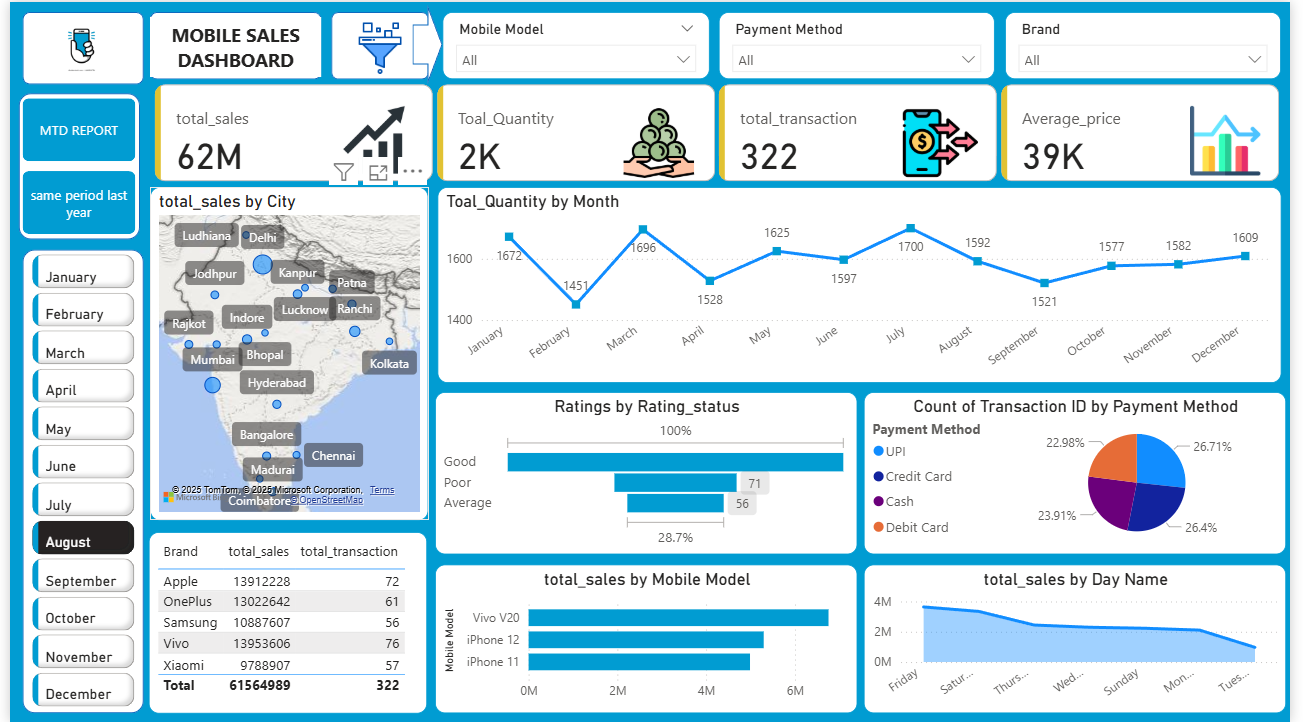

The page's visual inventory and layout, read from the dashboard file:
{"tool":"powerbi","page":{"name":"Dashboard","canvas":[1280,720],"ordinal":0},"visuals":[{"type":"shape","box":[12.5,10,121.2,72.5],"z":0},{"type":"image","box":[17.5,16.2,108.8,58.8],"z":1000},{"type":"shape","box":[321.2,10,97.5,67.5],"z":2000},{"type":"shape","box":[12.5,247.5,121.2,463.8],"z":3000},{"type":"advancedSlicerVisual","fields":{"Values":["custom_calender.Date.Variation.Date Hierarchy.Month"]},"box":[17.5,247.5,112.5,463.8],"z":4000},{"type":"cardVisual","fields":{"Data":["mobile sales data.total_sales","mobile sales data.Toal_Quantity","mobile sales data.total_transaction","mobile sales data.Average_price"]},"box":[140,77.5,1137.5,107.5],"z":5000},{"type":"slicer","fields":{"Values":["mobile sales data.Mobile Model"]},"box":[432.5,10,267.5,67.5],"z":6000},{"type":"slicer","fields":{"Values":["mobile sales data.Payment Method"]},"box":[708.8,10,276.2,67.5],"z":7000},{"type":"slicer","fields":{"Values":["mobile sales data.Brand"]},"box":[995,10,276.2,67.5],"z":8000},{"type":"shape","box":[8.8,91.2,121.2,146.2],"z":9000},{"type":"image","box":[321.2,15,97.5,62.5],"z":10000},{"type":"shape","box":[402.5,2.5,30,80],"z":11000},{"type":"shape","box":[140,10,171.2,67.5],"z":12000},{"type":"textbox","box":[140,15,171.2,60],"z":13000},{"type":"map","fields":{"Category":["mobile sales data.City"],"Size":["mobile sales data.total_sales"]},"box":[140,185,278.8,333.8],"z":14000},{"type":"funnel","title":"Ratings by Rating_status","fields":{"Y":["CountNonNull(mobile sales data.Customer Ratings)"],"Category":["mobile sales data.Rating_status"]},"box":[425,390,422.5,162.5],"z":15000},{"type":"lineChart","fields":{"Category":["custom_calender.Date.Variation.Date Hierarchy.Month"],"Y":["mobile sales data.Toal_Quantity"]},"box":[427.5,185,843.8,196.2],"z":16000},{"type":"pieChart","fields":{"Y":["CountNonNull(mobile sales data.Transaction ID)"],"Category":["mobile sales data.Payment Method"]},"box":[853.8,390,422.5,162.5],"z":17000},{"type":"clusteredBarChart","fields":{"Y":["mobile sales data.total_sales"],"Category":["mobile sales data.Mobile Model"]},"box":[425,562.5,422.5,148.8],"z":18000},{"type":"areaChart","fields":{"Category":["custom_calender.Day Name"],"Y":["mobile sales data.total_sales"]},"box":[853.8,562.5,422.5,148.8],"z":19000},{"type":"tableEx","fields":{"Values":["mobile sales data.Brand","mobile sales data.total_sales","mobile sales data.total_transaction"]},"box":[138.8,530,278.8,181.2],"z":20000},{"type":"pageNavigator","box":[12.5,96.2,113.8,137.5],"z":21000}]}

Visuals, with their boxes in screenshot pixels (x1, y1, x2, y2), scaled from the page's 1280x720 canvas onto the 1303x722 screenshot:
shape: rect(13, 10, 136, 83)
image: rect(18, 16, 129, 75)
shape: rect(327, 10, 426, 78)
shape: rect(13, 248, 136, 713)
advancedSlicerVisual - custom_calender.Date.Variation.Date Hierarchy.Month: rect(18, 248, 132, 713)
cardVisual - mobile sales data.total_sales x mobile sales data.Toal_Quantity: rect(143, 78, 1300, 186)
slicer - mobile sales data.Mobile Model: rect(440, 10, 713, 78)
slicer - mobile sales data.Payment Method: rect(722, 10, 1003, 78)
slicer - mobile sales data.Brand: rect(1013, 10, 1294, 78)
shape: rect(9, 91, 132, 238)
image: rect(327, 15, 426, 78)
shape: rect(410, 3, 440, 83)
shape: rect(143, 10, 317, 78)
textbox: rect(143, 15, 317, 75)
map - mobile sales data.City x mobile sales data.total_sales: rect(143, 186, 426, 520)
"Ratings by Rating_status" funnel: rect(433, 391, 863, 554)
lineChart - custom_calender.Date.Variation.Date Hierarchy.Month x mobile sales data.Toal_Quantity: rect(435, 186, 1294, 382)
pieChart - CountNonNull(mobile sales data.Transaction ID) x mobile sales data.Payment Method: rect(869, 391, 1299, 554)
clusteredBarChart - mobile sales data.total_sales x mobile sales data.Mobile Model: rect(433, 564, 863, 713)
areaChart - custom_calender.Day Name x mobile sales data.total_sales: rect(869, 564, 1299, 713)
tableEx - mobile sales data.Brand x mobile sales data.total_sales: rect(141, 531, 425, 713)
pageNavigator: rect(13, 96, 129, 234)
